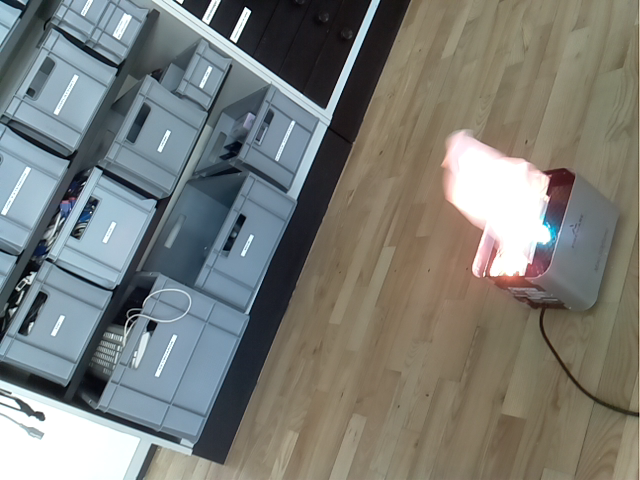fire: (440, 129, 551, 276)
